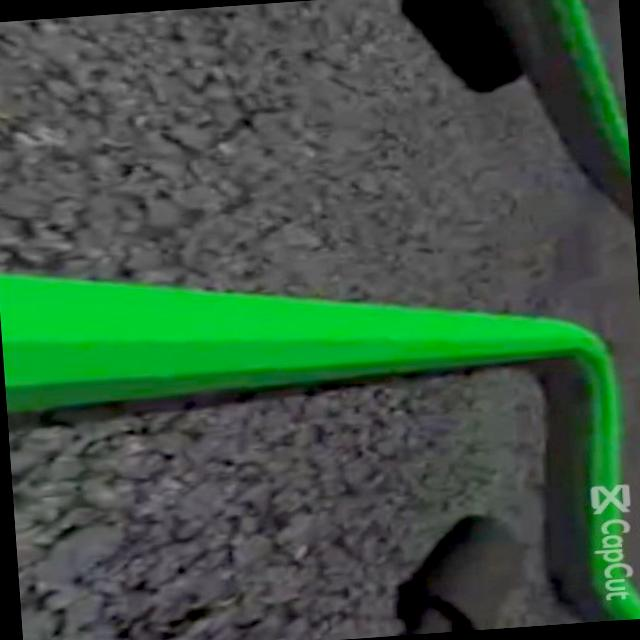gas: (0, 224, 623, 473)
